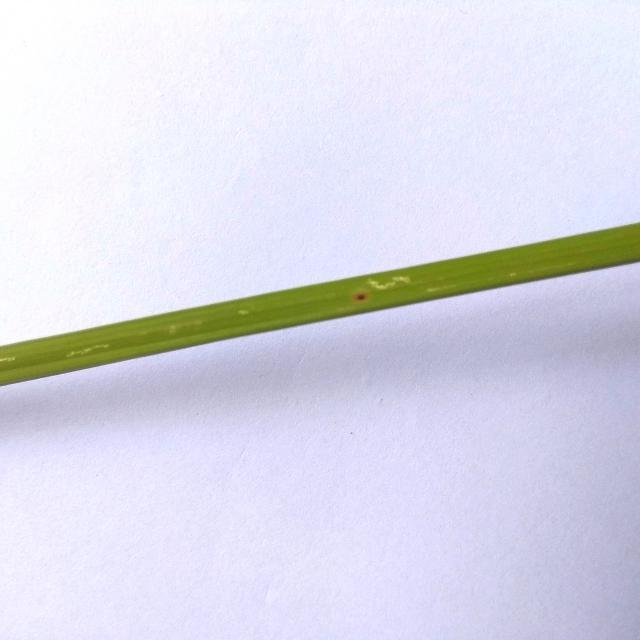brownspots: (347, 282, 380, 310)
